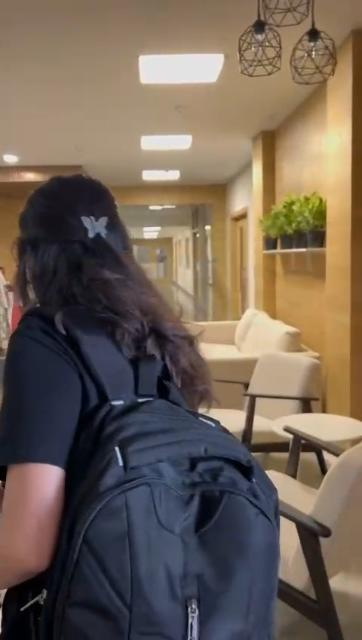moving-obj: (4, 162, 286, 640)
object: (260, 420, 362, 640), (188, 306, 318, 420)
wall: (209, 80, 351, 186), (246, 250, 354, 304), (320, 160, 354, 288), (318, 306, 360, 398), (211, 218, 235, 314), (119, 190, 230, 204), (4, 171, 18, 277), (238, 184, 268, 210), (249, 215, 262, 265)
